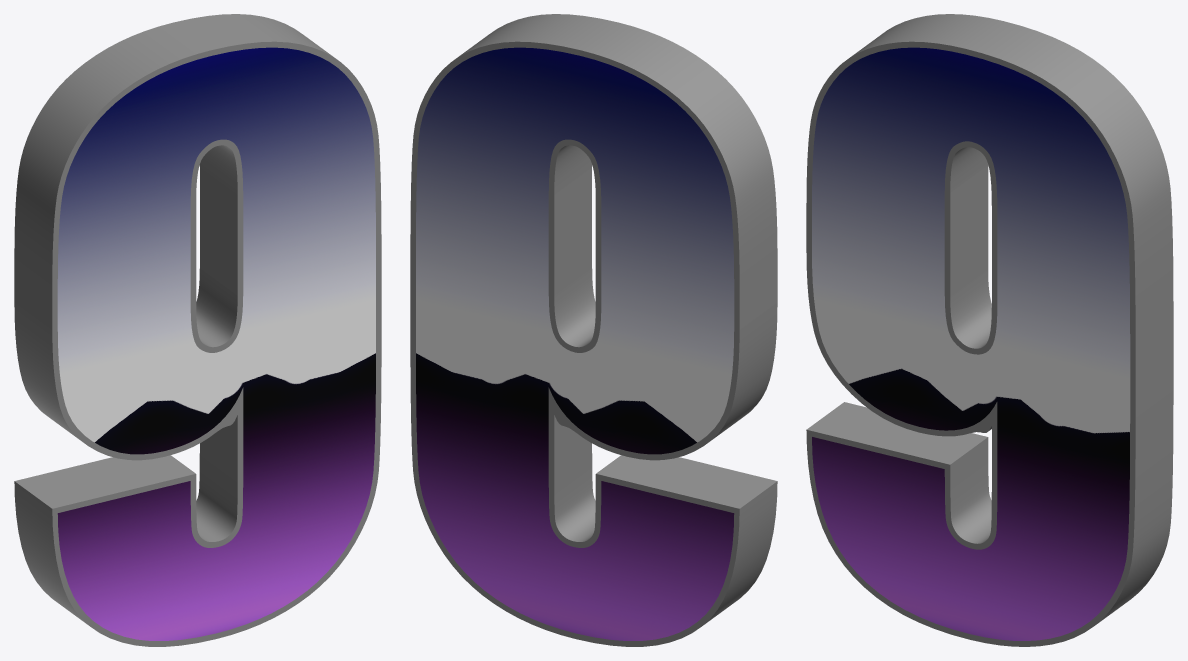
3 views of the same model, side by side, from view 1: azimuth 30°, elevation 25°; view 2: azimuth 150°, elevation 25°; view 3: azimuth 330°, elevation 25° (orthographic).
Visible parts, largest first — view 1: 9, 9_outline; view 2: 9, 9_outline; view 3: 9, 9_outline.
Boxes of the visible parts, x1=… form: 9: x1=57, y1=47, x2=375, y2=640; 9_outline: x1=14, y1=14, x2=381, y2=646; 9: x1=416, y1=47, x2=734, y2=640; 9_outline: x1=410, y1=14, x2=777, y2=646; 9: x1=812, y1=47, x2=1130, y2=640; 9_outline: x1=806, y1=14, x2=1173, y2=646.
Bounding box in the file's own units: 60.2 × 103 × 12.
Materials: 2 (1 with a texture image).
